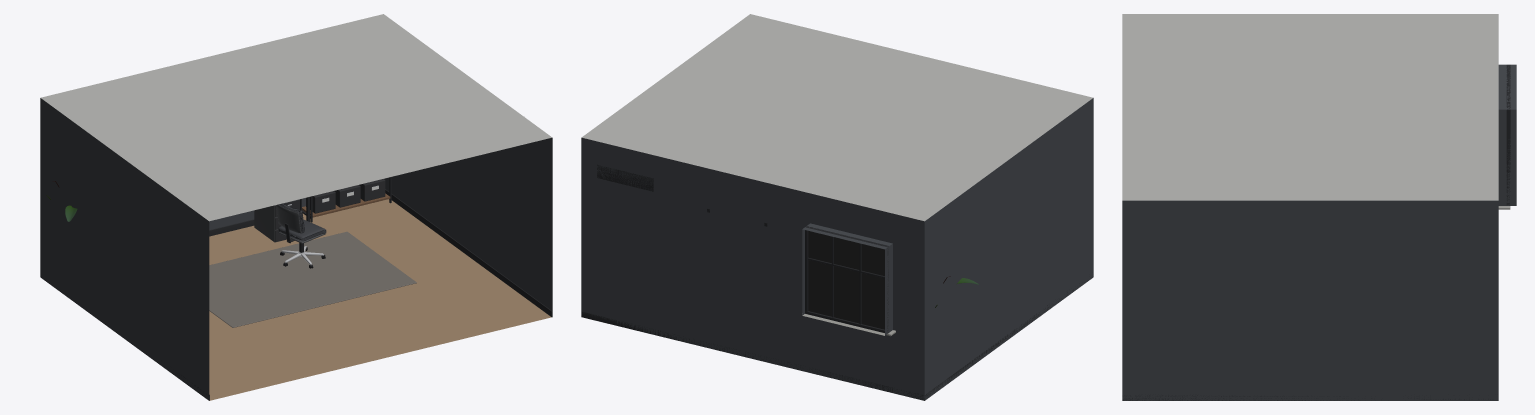
File: room.glb
3 views of the same model, side by side, from view 1: azimuth 30°, elevation 25°; view 2: azimuth 150°, elevation 25°; view 3: azimuth 270°, elevation 25° (orthographic). The views are drawn at different scales.
Parts seen in each view (by area): view 1: S.ceiling, S.shell, S.floor, F.rug, F.chair, S.trim, F.desk, F.shelves, P.item.luv; view 2: S.shell, S.ceiling, F.glass.window, F.window, S.trim, F.signbox; view 3: S.shell, S.ceiling, F.window.
Part boxes in pixels (x1=…): S.ceiling: x1=40, y1=14, x2=551, y2=221; S.shell: x1=40, y1=98, x2=552, y2=400; S.floor: x1=209, y1=199, x2=551, y2=400; F.rug: x1=209, y1=231, x2=416, y2=327; F.chair: x1=276, y1=203, x2=326, y2=268; S.trim: x1=161, y1=189, x2=552, y2=400; F.desk: x1=254, y1=197, x2=309, y2=242; F.shelves: x1=300, y1=177, x2=391, y2=222; P.item.luv: x1=359, y1=179, x2=385, y2=201; S.shell: x1=581, y1=98, x2=1093, y2=400; S.ceiling: x1=582, y1=14, x2=1092, y2=221; F.glass.window: x1=808, y1=231, x2=884, y2=329; F.window: x1=802, y1=226, x2=895, y2=336; S.trim: x1=581, y1=280, x2=1087, y2=400; F.signbox: x1=597, y1=164, x2=653, y2=191; S.shell: x1=1122, y1=64, x2=1516, y2=400; S.ceiling: x1=1122, y1=14, x2=1498, y2=200; F.window: x1=1498, y1=64, x2=1510, y2=209.
Size of the model in its own units: 5.99 by 2.7 by 4.87.
